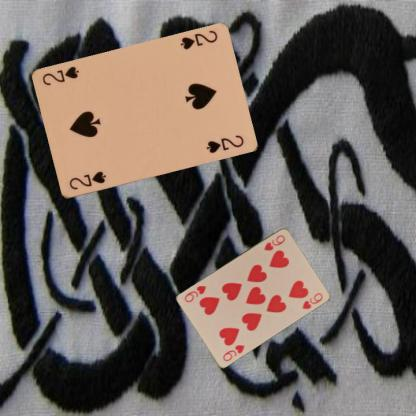2s: (177, 28, 219, 51), (66, 169, 107, 191)
9h: (261, 232, 287, 252), (220, 342, 246, 362)
